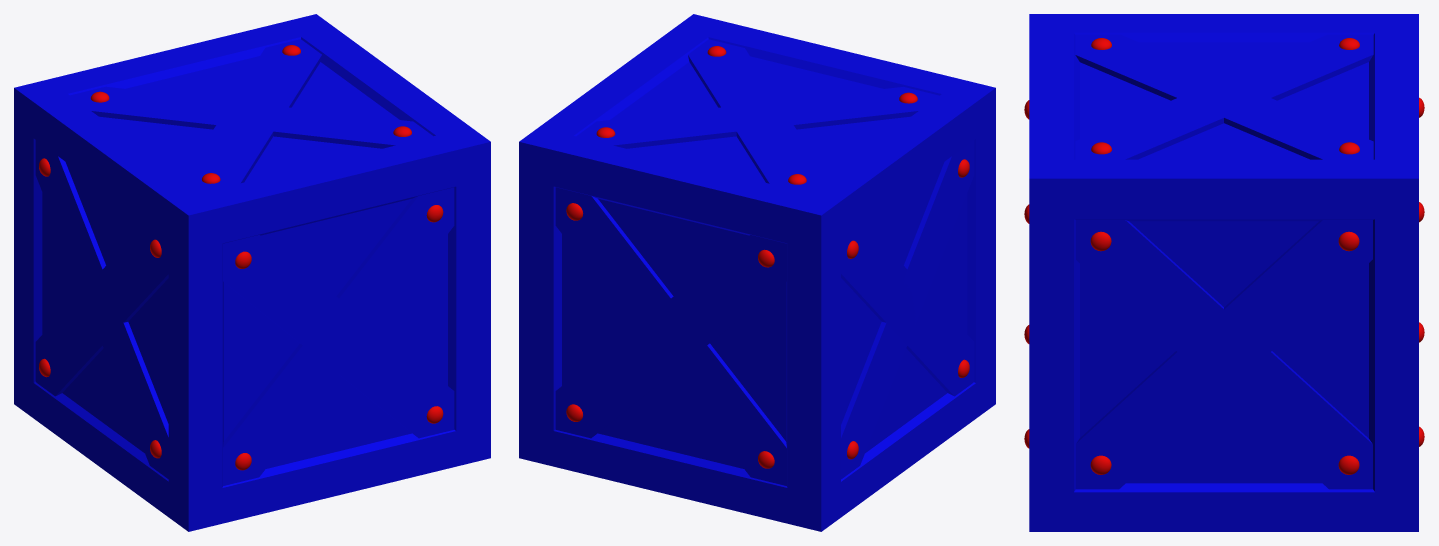
Rendered from woodenbox.fbx.
3 views of the same model, side by side, from view 1: azimuth 30°, elevation 25°; view 2: azimuth 150°, elevation 25°; view 3: azimuth 270°, elevation 25° (orthographic). The views are drawn at different scales.
Parts seen in each view (by area): view 1: pCube1, polySurface11, polySurface12, polySurface1, polySurface9, polySurface8, polySurface2, pasted__pasted__pasted__group6_pasted__pasted__pasted__paste; view 2: pCube1, polySurface13, polySurface14, polySurface2, polySurface8, polySurface9, polySurface1, pasted__pasted__pasted__group6_pasted__pasted__pasted__paste; view 3: pCube1, polySurface7, polySurface6, polySurface1, polySurface2, pasted__pasted__pasted__group6_pasted__pasted__pasted__paste.
Boxes of the visible parts, <box> form: pCube1: <box>14,14,490,531</box>; polySurface11: <box>223,235,454,438</box>; polySurface12: <box>223,187,454,485</box>; polySurface1: <box>70,86,432,148</box>; polySurface9: <box>35,140,168,478</box>; polySurface8: <box>35,221,168,396</box>; polySurface2: <box>183,39,321,192</box>; pasted__pasted__pasted__group6_pasted__pasted__pasted__paste: <box>39,45,443,470</box>; pCube1: <box>519,14,995,531</box>; polySurface13: <box>555,235,786,438</box>; polySurface14: <box>555,187,786,485</box>; polySurface2: <box>576,86,939,148</box>; polySurface8: <box>841,140,974,479</box>; polySurface9: <box>841,221,974,396</box>; polySurface1: <box>688,39,826,192</box>; pasted__pasted__pasted__group6_pasted__pasted__pasted__paste: <box>566,46,969,468</box>; pCube1: <box>1029,14,1418,531</box>; polySurface7: <box>1076,220,1372,489</box>; polySurface6: <box>1076,220,1372,489</box>; polySurface1: <box>1075,34,1373,159</box>; polySurface2: <box>1075,34,1373,159</box>; pasted__pasted__pasted__group6_pasted__pasted__pasted__paste: <box>1024,38,1424,474</box>.
Size of the model in its own units: 74.82 by 74.77 by 74.85.
